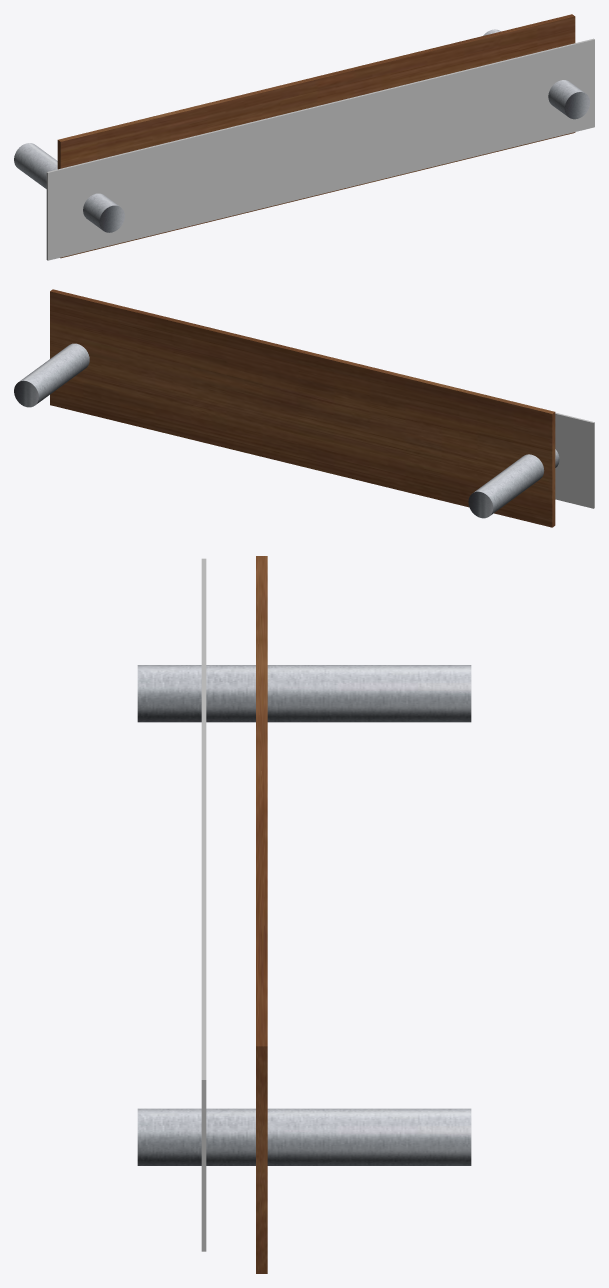
The model's file is Sing.fbx.
3 views of the same model, one above another, from view 1: azimuth 30°, elevation 25°; view 2: azimuth 150°, elevation 25°; view 3: azimuth 270°, elevation 25° (orthographic). The views are drawn at different scales.
Parts seen in each view (by area): view 1: Cylinder.001; view 2: Cylinder.001; view 3: Cylinder.001.
Boxes of the visible parts, x1,y1,x2,y2 form: Cylinder.001: (14,14,594,260); Cylinder.001: (14,289,594,527); Cylinder.001: (137,556,471,1273).
Bounding box in the file's own units: 53.16 × 10.81 × 14.38.
